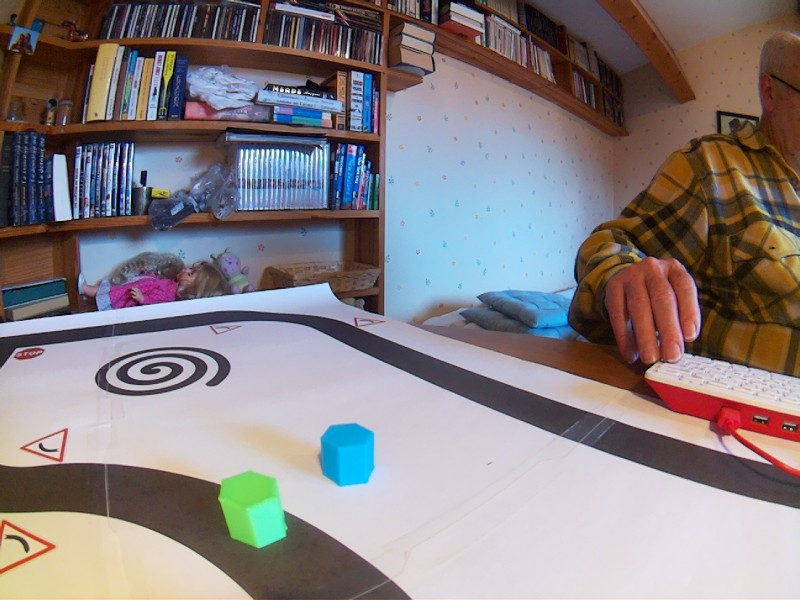hexagon: (216, 466, 293, 552), (316, 419, 381, 490)
nest: (92, 343, 232, 403)
